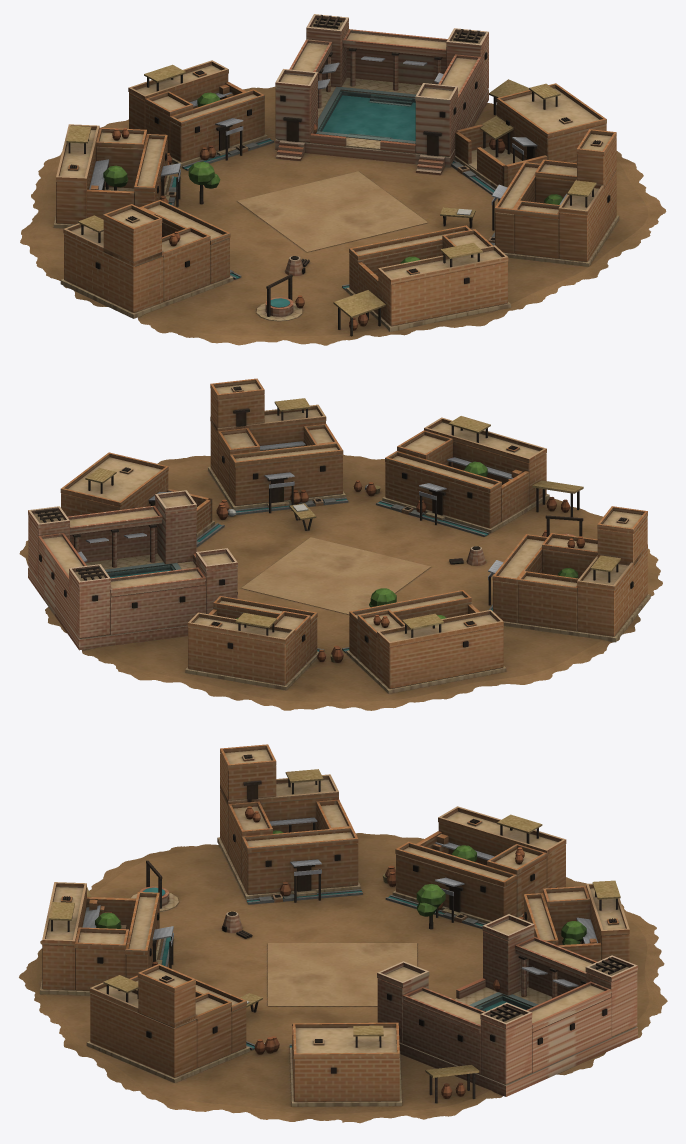
The model's file is bronze-town-small-a-indic-1fb712cc.glb.
3 renders of one model, top to bottom at view 1: azimuth 30°, elevation 25°; view 2: azimuth 150°, elevation 25°; view 3: azimuth 270°, elevation 25°, orthographic. The views are drawn at different scales.
Parts seen in each view (by area): view 1: LOD0; view 2: LOD0; view 3: LOD0.
Boxes of the visible parts, left/top/right/bottom form: LOD0: left=20, top=14, right=666, bottom=345; LOD0: left=19, top=378, right=662, bottom=710; LOD0: left=19, top=744, right=667, bottom=1123.
Size of what is drawn, in the model's own units: 3.98 by 0.61 by 3.71.
Materials: 3 (3 with a texture image).
